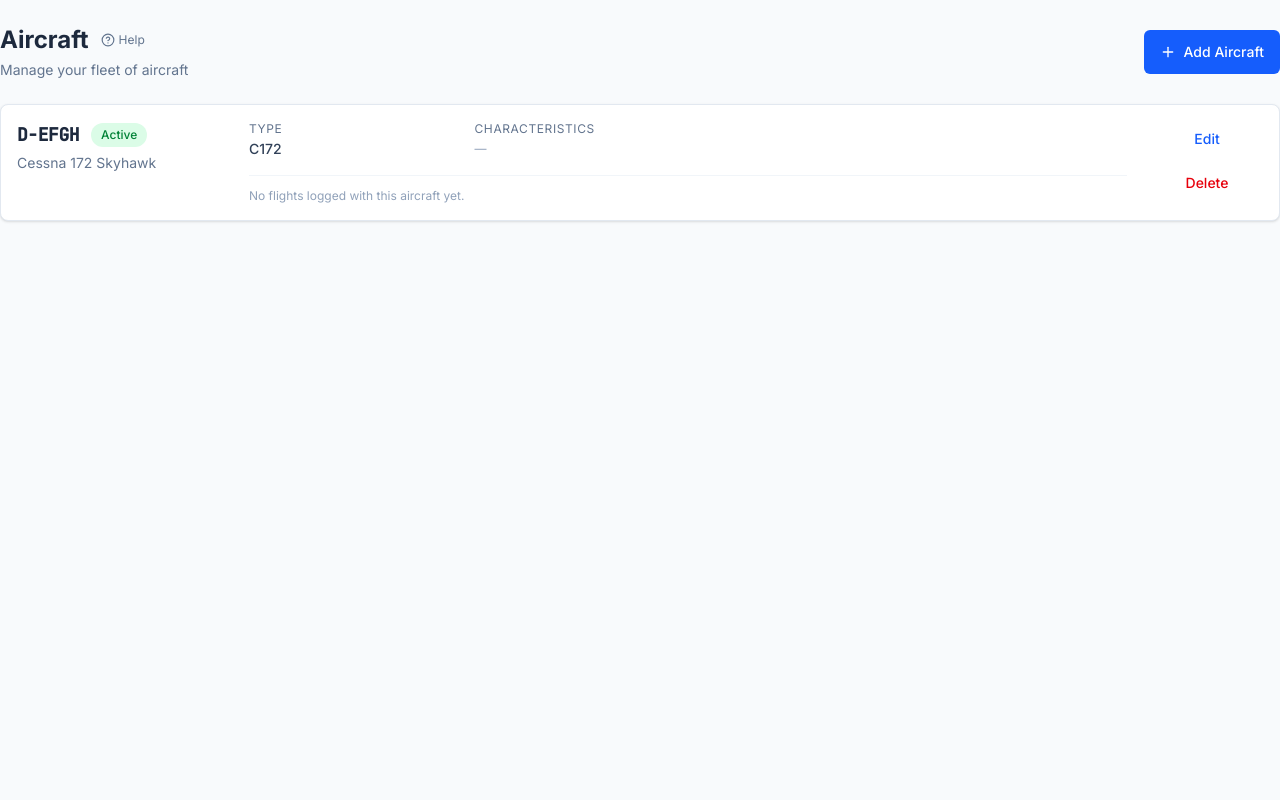
Test case: AircraftPage › opens edit modal for existing aircraft
Click the button "Edit" at point(1207, 139), box [1151,121,1263,157]
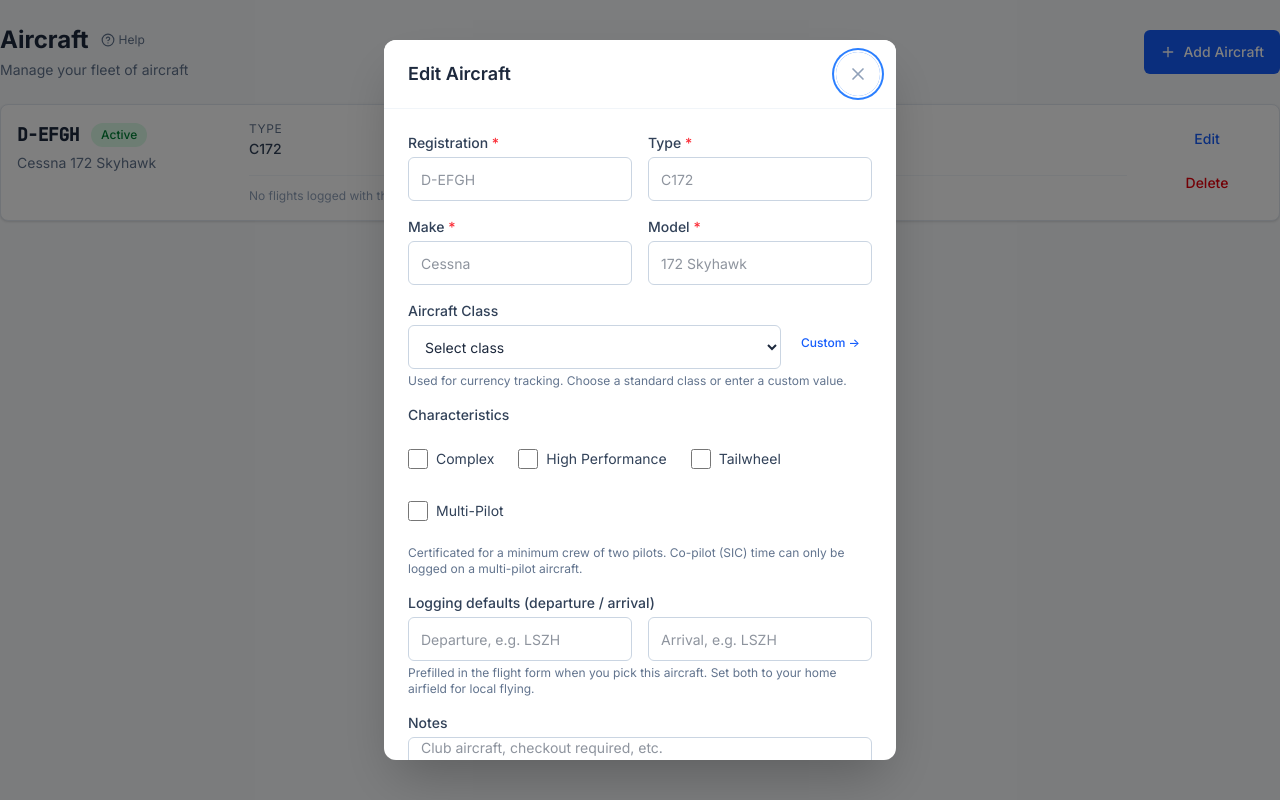
Now the heading "Edit Aircraft" is shown, box [408,60,511,88]
